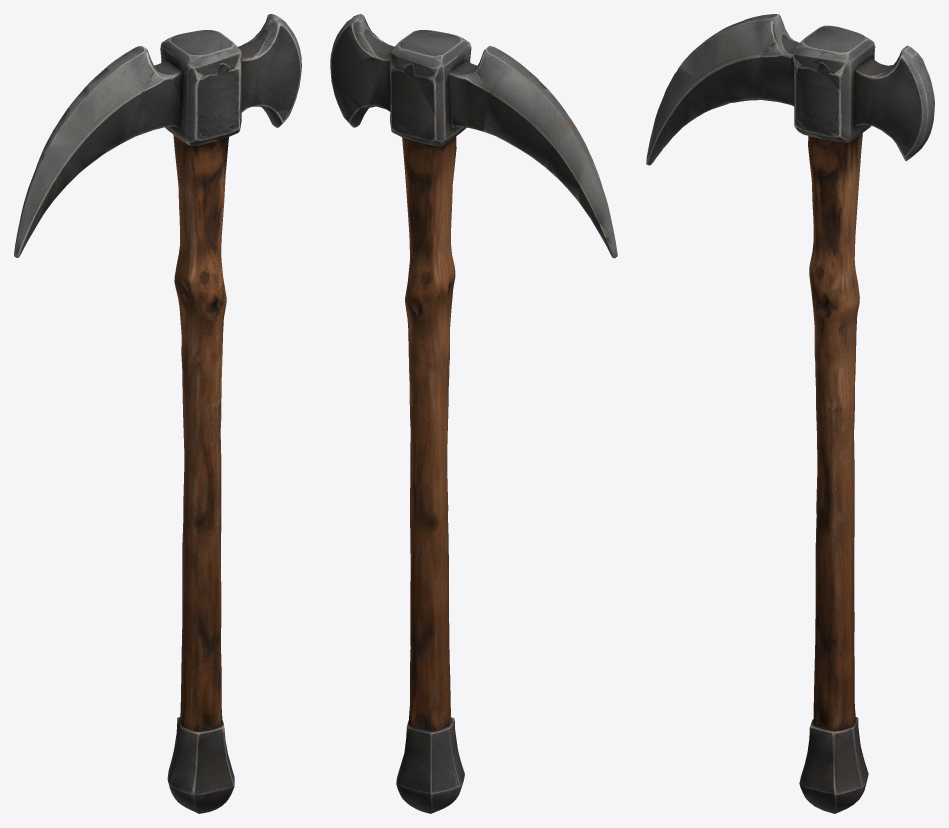
File: pickaxe.glb
3 renders of one model, left to right at view 1: azimuth 30°, elevation 25°; view 2: azimuth 150°, elevation 25°; view 3: azimuth 330°, elevation 25°, orthographic.
Visible parts, largest first — view 1: Mesh_0; view 2: Mesh_0; view 3: Mesh_0.
Boxes of the visible parts, x1,y1,x2,y2 form: Mesh_0: (14, 14, 301, 813); Mesh_0: (330, 14, 617, 813); Mesh_0: (646, 14, 934, 813).
Size of the model in its own units: 0.2289 by 0.6 by 0.0487.
Materials: 1 (1 with a texture image).
